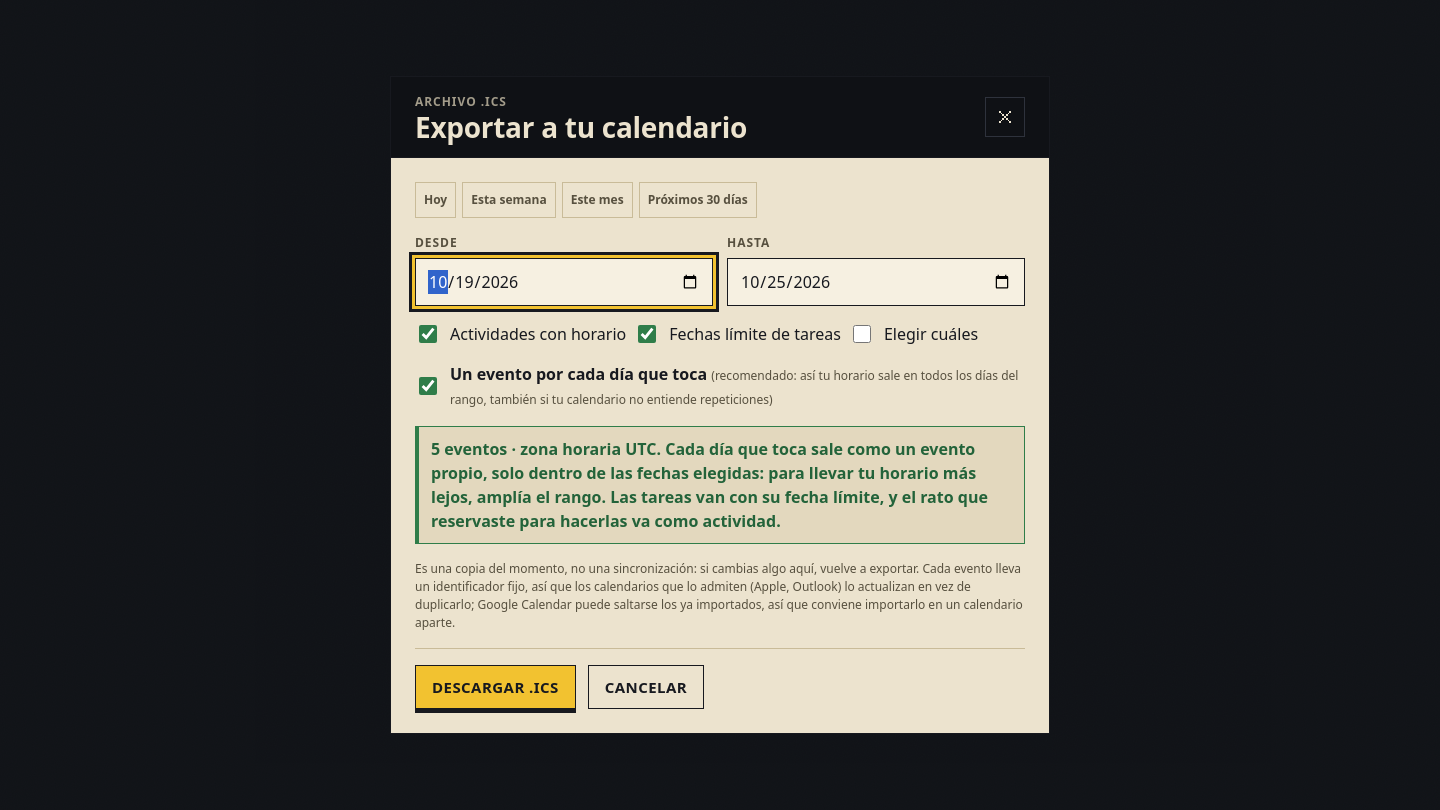
Exportar a tu calendario › al elegir cuáles, las repeticiones salen agrupadas en una línea
This screenshot has width=1440, height=810.
Step 1. Click the checkbox labelled "Elegir cuáles" → (862,334), box [853,325,871,343]
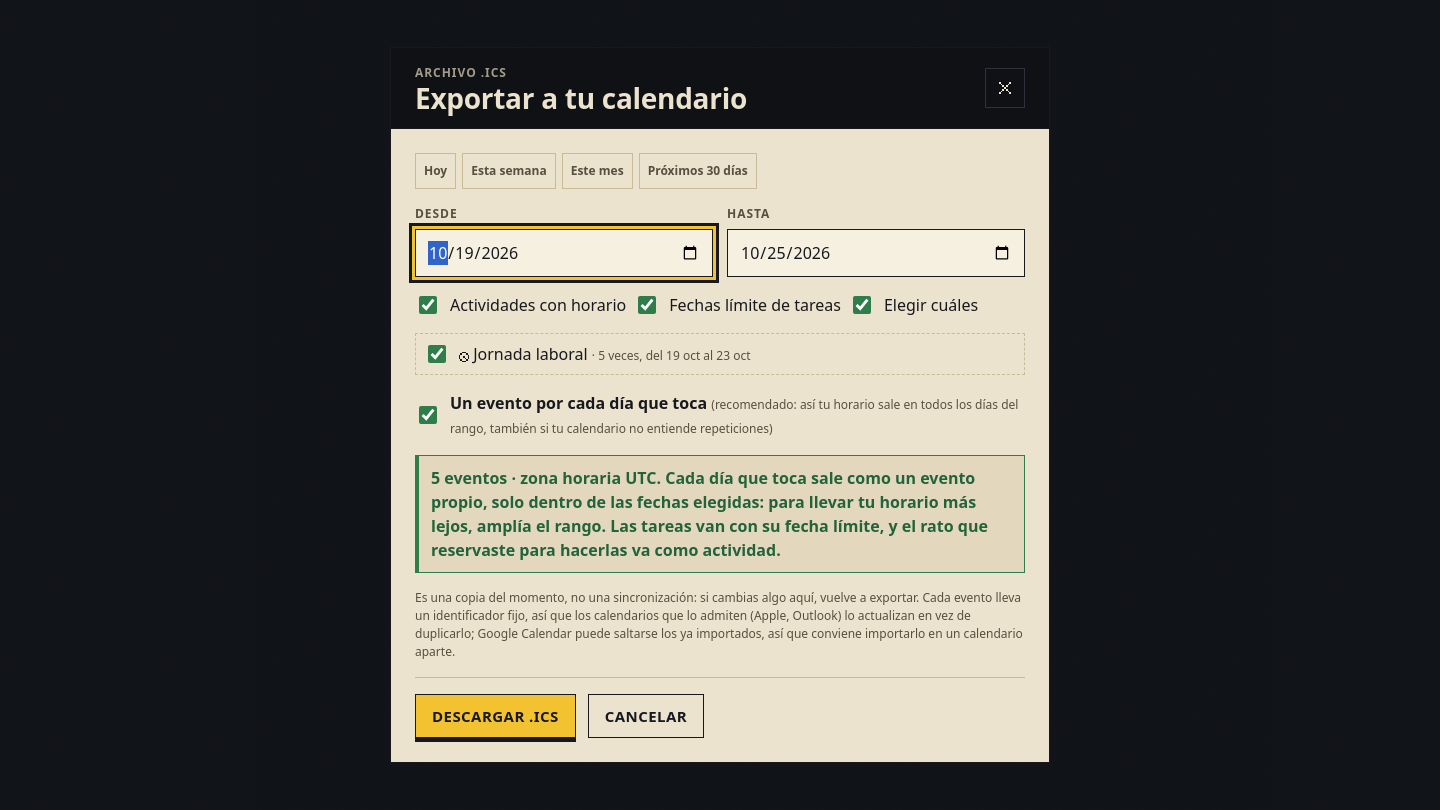
Check: the number of checkboxes labelled "Jornada laboral · 5 veces, del 19 oct al 23 oct" is 1, box [428,345,446,363]
Check: the text "· 5 veces, del 19 oct al 23 oct" is shown, box [592,347,750,364]
